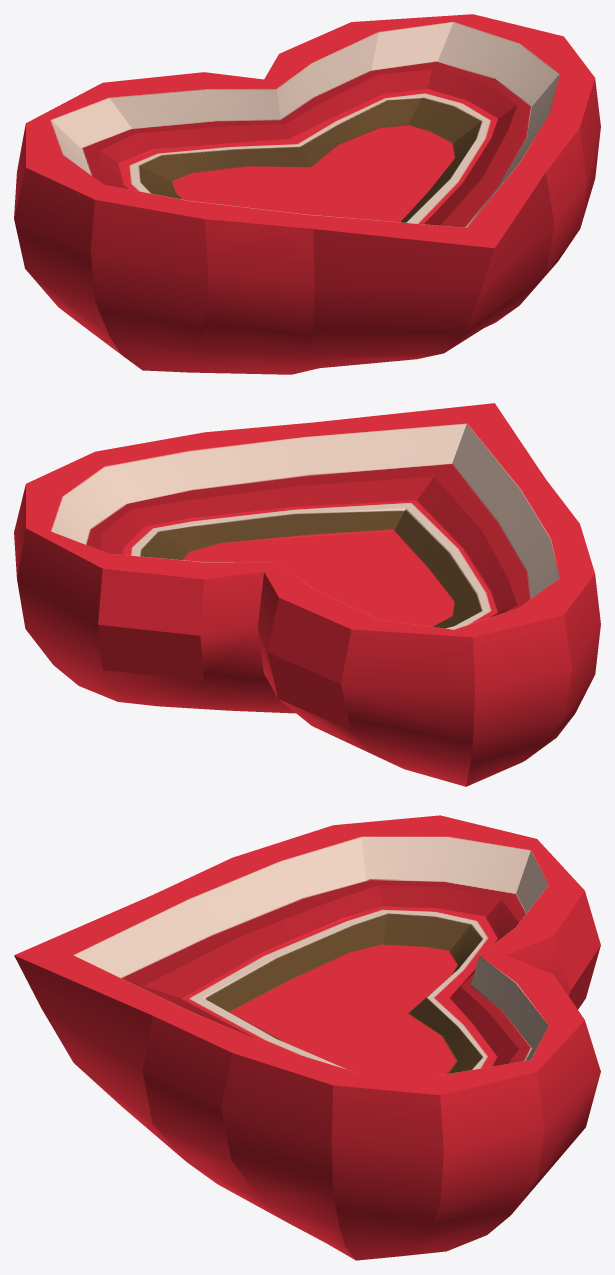
Rendered from sementeFrutaCura_UVOpen.fbx.
The picture shows the model from 3 angles, top to bottom: view 1: azimuth 30°, elevation 25°; view 2: azimuth 150°, elevation 25°; view 3: azimuth 270°, elevation 25°; orthographic projection. The views are drawn at different scales.
Parts seen in each view (by area): view 1: pCube1; view 2: pCube1; view 3: pCube1.
Part boxes in pixels (x1,y1,x2,y2): pCube1: (14,14,600,374); pCube1: (14,403,600,786); pCube1: (14,815,600,1260).
Bounding box in the file's own units: 5.79 × 1.91 × 4.95.
